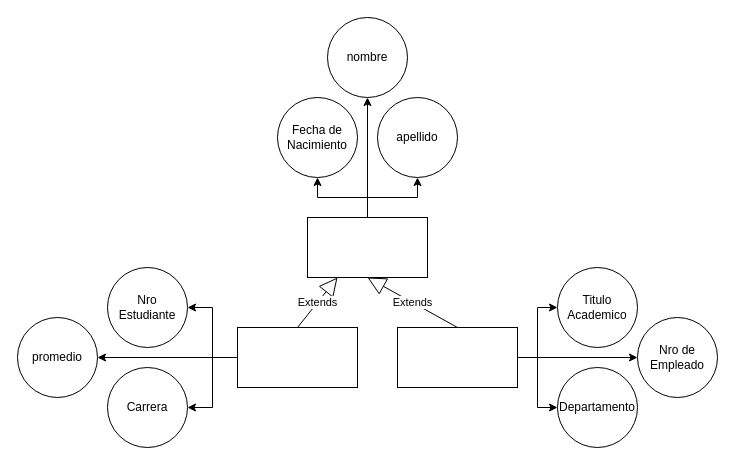
Image size: 735x465. Some labels were removed from this diagram. Each missing label, with the centre of its shape:
"Estudiante" goes at point 297,357.
"Persona" goes at point 367,247.
"Profesor" goes at point 457,357.
